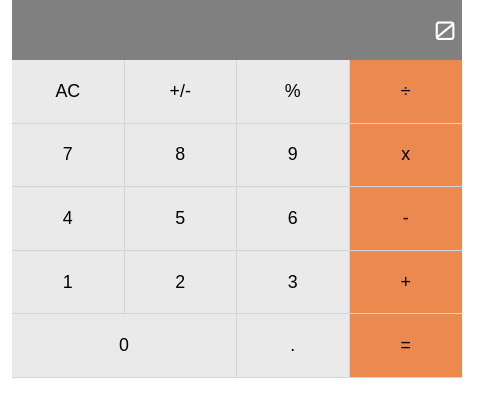
Scenario: The CalculatorApp component displays › the result '15' in the '.final-result' box when user clicks on the buttons 7, +, 8, =
This screenshot has width=479, height=395.
Click the button "7": x=68, y=155 [12, 124, 124, 187]
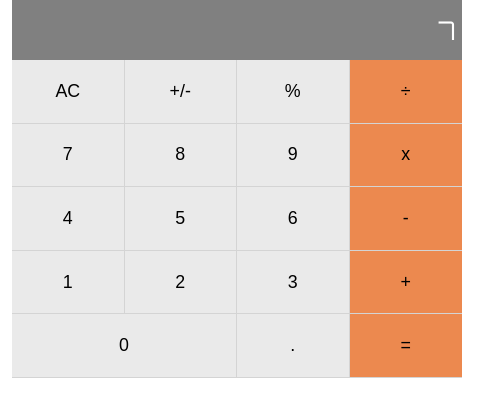
Click the button "+": x=406, y=283 [350, 251, 462, 314]
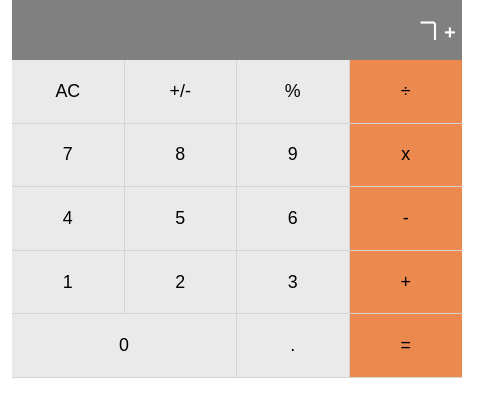
Click the button "8": x=181, y=155 [124, 124, 237, 187]
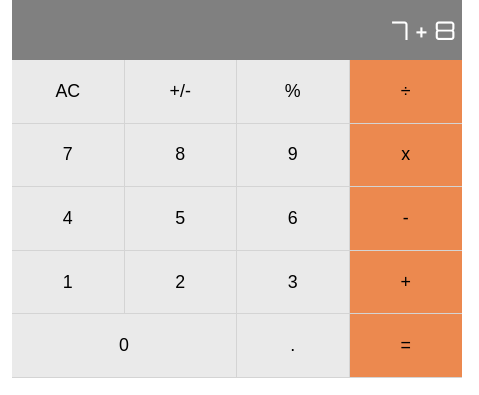
Click the button "=": x=406, y=346 [350, 314, 462, 378]
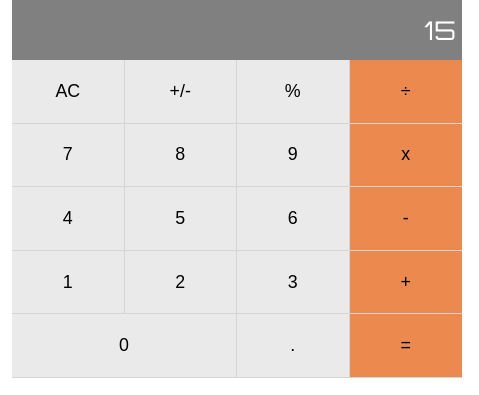
Now the text with class "final-result" reads "15", box [424, 14, 456, 46]
